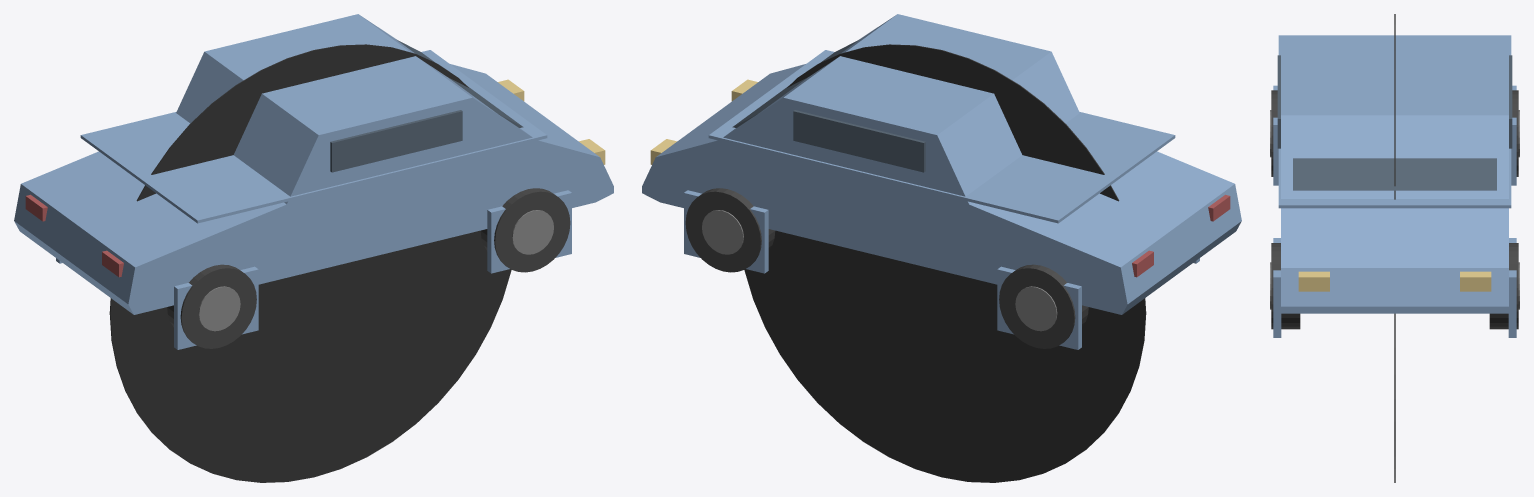
File: hatch.glb
3 renders of one model, left to right at view 1: azimuth 30°, elevation 25°; view 2: azimuth 150°, elevation 25°; view 3: azimuth 270°, elevation 25°, orthographic.
Visible parts, largest first — view 1: body, shadow, beltline, side_glass_0, tire_0, tire_2, rim_0, rim_2, arch_2, arch_0; view 2: body, shadow, beltline, side_glass_1, tire_1, tire_3, rim_1, rim_3, arch_3, arch_1; view 3: body, glass, beltline, tire_0, tire_1, shadow, headlight_0, headlight_1, arch_0, arch_1, arch_2, arch_3 (+4 smaller).
Boxes of the visible parts, bbox=[...] form: body: bbox=[14, 14, 613, 314]; shadow: bbox=[109, 44, 511, 482]; beltline: bbox=[80, 50, 547, 223]; side_glass_0: bbox=[330, 110, 462, 172]; tire_0: bbox=[480, 188, 570, 272]; tire_2: bbox=[167, 264, 256, 348]; rim_0: bbox=[512, 210, 553, 254]; rim_2: bbox=[198, 286, 240, 331]; arch_2: bbox=[174, 266, 258, 349]; arch_0: bbox=[487, 190, 571, 273]; body: bbox=[642, 14, 1241, 314]; shadow: bbox=[744, 44, 1146, 482]; beltline: bbox=[708, 50, 1175, 223]; side_glass_1: bbox=[793, 110, 925, 172]; tire_1: bbox=[685, 188, 775, 272]; tire_3: bbox=[999, 264, 1088, 348]; rim_1: bbox=[702, 210, 743, 254]; rim_3: bbox=[1015, 286, 1057, 331]; arch_3: bbox=[997, 266, 1081, 349]; arch_1: bbox=[684, 190, 768, 273]; body: bbox=[1281, 40, 1508, 313]; glass: bbox=[1293, 158, 1496, 190]; beltline: bbox=[1278, 35, 1511, 208]; tire_0: bbox=[1271, 243, 1300, 329]; tire_1: bbox=[1489, 243, 1518, 329]; shadow: bbox=[1394, 14, 1395, 482]; headlight_0: bbox=[1298, 271, 1329, 291]; headlight_1: bbox=[1460, 271, 1491, 291]; arch_0: bbox=[1273, 238, 1281, 337]; arch_1: bbox=[1508, 238, 1516, 337]; arch_2: bbox=[1273, 85, 1278, 185]; arch_3: bbox=[1511, 85, 1516, 185].
Size of the model in its own units: 4.26 by 3.58 by 1.91.
